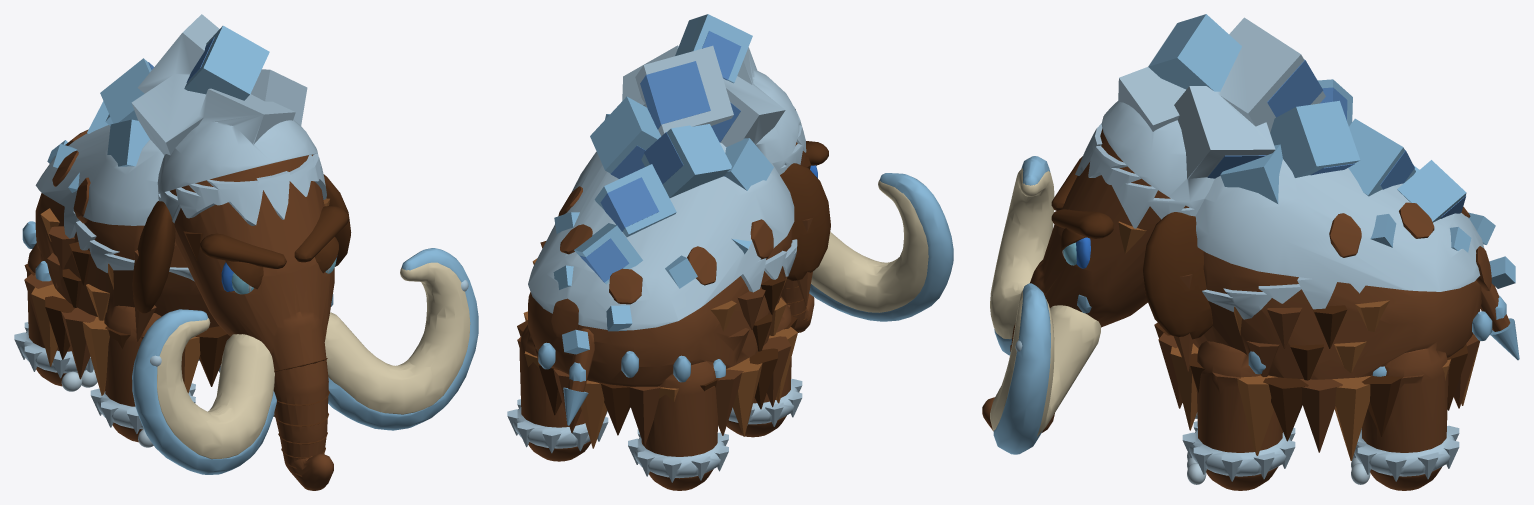
The model's file is rimetusk.glb.
3 renders of one model, left to right at view 1: azimuth 30°, elevation 25°; view 2: azimuth 150°, elevation 25°; view 3: azimuth 270°, elevation 25°, orthographic. The views are drawn at different scales.
Parts seen in each view (by area): view 1: creature; view 2: creature; view 3: creature.
Boxes of the visible parts, x1,y1,x2,y2 form: creature: (14, 14, 478, 490); creature: (507, 14, 953, 490); creature: (982, 14, 1519, 490).
Size of the model in its own units: 0.8732 by 1 by 1.11.
